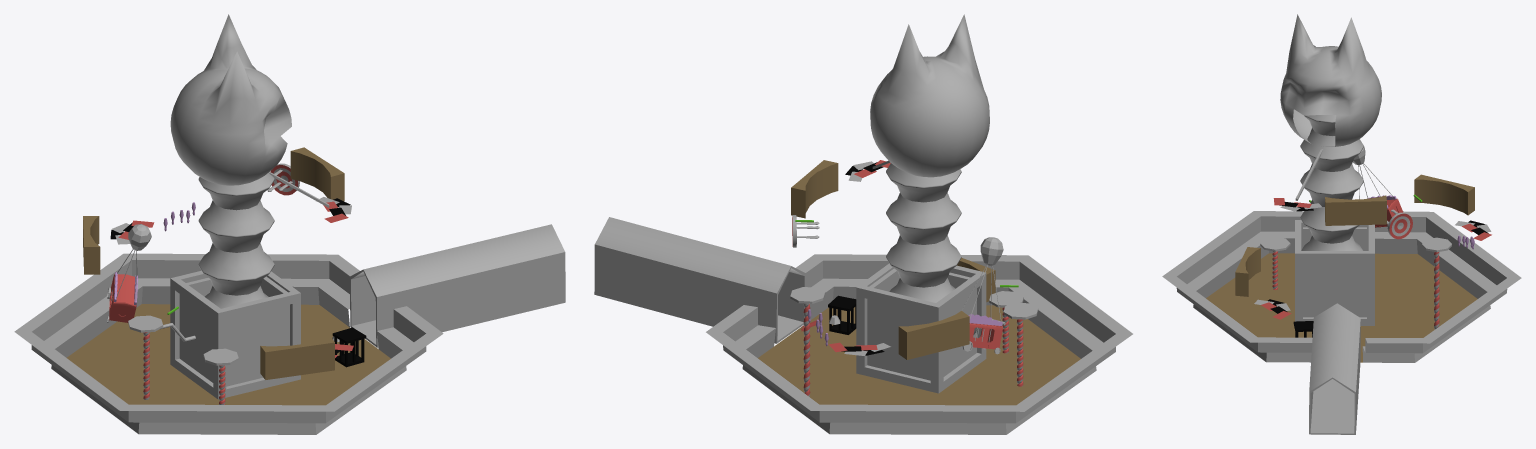
File: TutorialV1.fbx
3 views of the same model, side by side, from view 1: azimuth 30°, elevation 25°; view 2: azimuth 150°, elevation 25°; view 3: azimuth 270°, elevation 25° (orthographic). The views are drawn at different scales.
Parts seen in each view (by area): view 1: pTorus3, pTorus4, pasted__pSphere22, pasted__pCube25, pasted__pCylinder20, pCube174, pCube179, pasted__pasted__pCube158, pCube176, pCube129; view 2: pTorus3, pTorus4, pasted__pSphere22, pasted__pCube25, pasted__pCylinder20, pCube176, pCube179, pasted__pasted__pCube158, pHelix10, pasted__pSphere12; view 3: pTorus3, pasted__pSphere22, pTorus4, pasted__pCube25, pasted__pCylinder20, pCube179, pCube176, pCube174, pCylinder91, pHelix10, pCylinder88, pCylinder90.
Boxes of the visible parts, bbox=[...] form: pTorus3: bbox=[14, 253, 443, 434]; pTorus4: bbox=[350, 224, 565, 347]; pasted__pSphere22: bbox=[170, 14, 291, 185]; pasted__pCube25: bbox=[170, 270, 300, 399]; pasted__pCylinder20: bbox=[198, 173, 274, 308]; pCube174: bbox=[260, 336, 334, 379]; pCube179: bbox=[290, 147, 344, 201]; pasted__pasted__pCube158: bbox=[109, 274, 136, 322]; pCube176: bbox=[83, 216, 100, 274]; pCube129: bbox=[334, 337, 364, 367]; pTorus3: bbox=[706, 254, 1132, 434]; pTorus4: bbox=[594, 217, 805, 343]; pasted__pSphere22: bbox=[870, 14, 989, 177]; pasted__pCube25: bbox=[856, 263, 986, 393]; pasted__pCylinder20: bbox=[886, 163, 961, 302]; pCube176: bbox=[898, 311, 969, 359]; pCube179: bbox=[791, 160, 838, 218]; pasted__pasted__pCube158: bbox=[969, 323, 1002, 349]; pHelix10: bbox=[803, 303, 810, 396]; pasted__pSphere12: bbox=[980, 237, 1003, 265]; pTorus3: bbox=[1162, 211, 1521, 362]; pasted__pSphere22: bbox=[1280, 14, 1381, 146]; pTorus4: bbox=[1309, 303, 1360, 434]; pasted__pCube25: bbox=[1295, 220, 1374, 325]; pasted__pCylinder20: bbox=[1300, 115, 1363, 250]; pCube179: bbox=[1325, 195, 1386, 225]; pCube176: bbox=[1414, 174, 1474, 215]; pCube174: bbox=[1235, 247, 1260, 296]; pCylinder91: bbox=[1387, 212, 1412, 239]; pHelix10: bbox=[1434, 252, 1439, 329]; pCylinder88: bbox=[1260, 237, 1290, 251]; pCylinder90: bbox=[1421, 237, 1451, 252].
Bounding box in the file's own units: 64.07 × 46.56 × 49.64.
